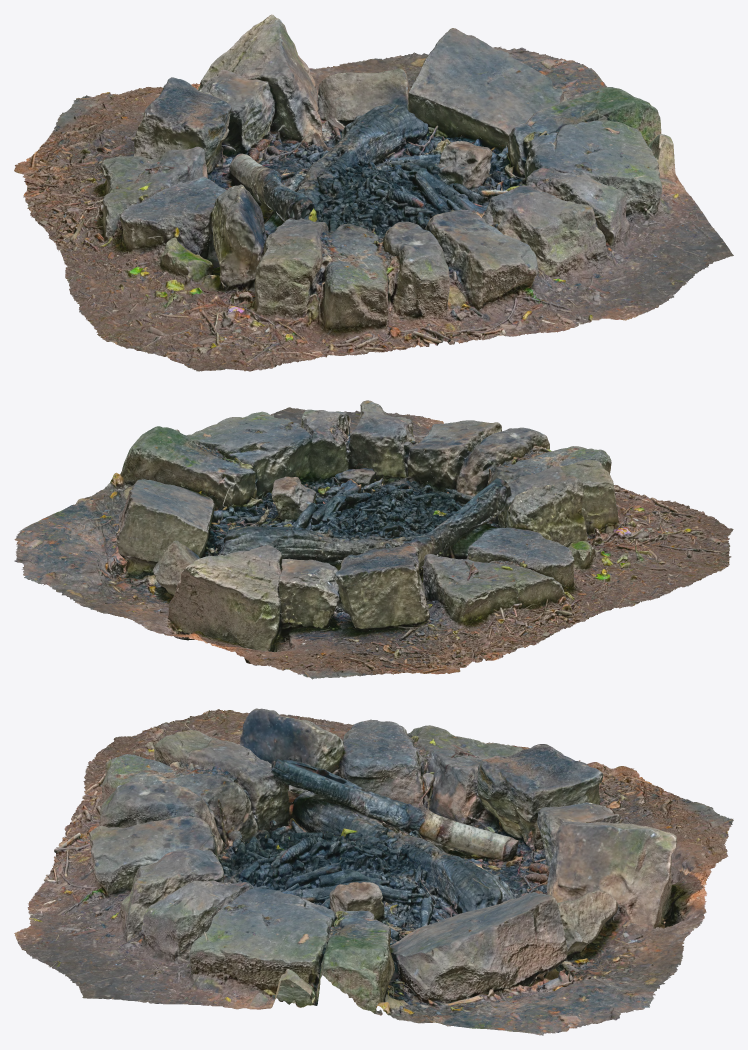
File: fireplace-transformed.glb
3 renders of one model, top to bottom at view 1: azimuth 30°, elevation 25°; view 2: azimuth 150°, elevation 25°; view 3: azimuth 270°, elevation 25°, orthographic. The views are drawn at different scales.
Visible parts, largest first — view 1: Model; view 2: Model; view 3: Model.
Boxes of the visible parts, x1,y1,x2,y2 form: Model: (14, 14, 733, 371); Model: (14, 400, 733, 679); Model: (14, 708, 733, 1035).
Bounding box in the file's own units: 2.58 × 0.396 × 2.42.
3 materials, 3 textured.
